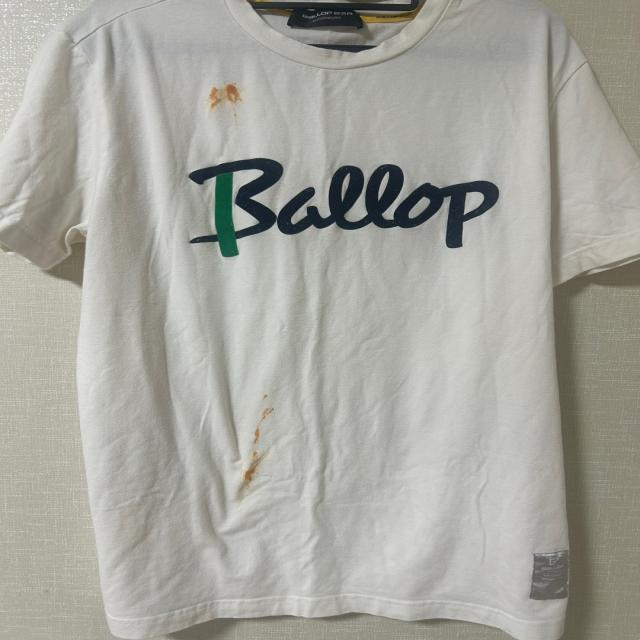stain: (240, 397, 295, 498), (200, 84, 252, 122)
